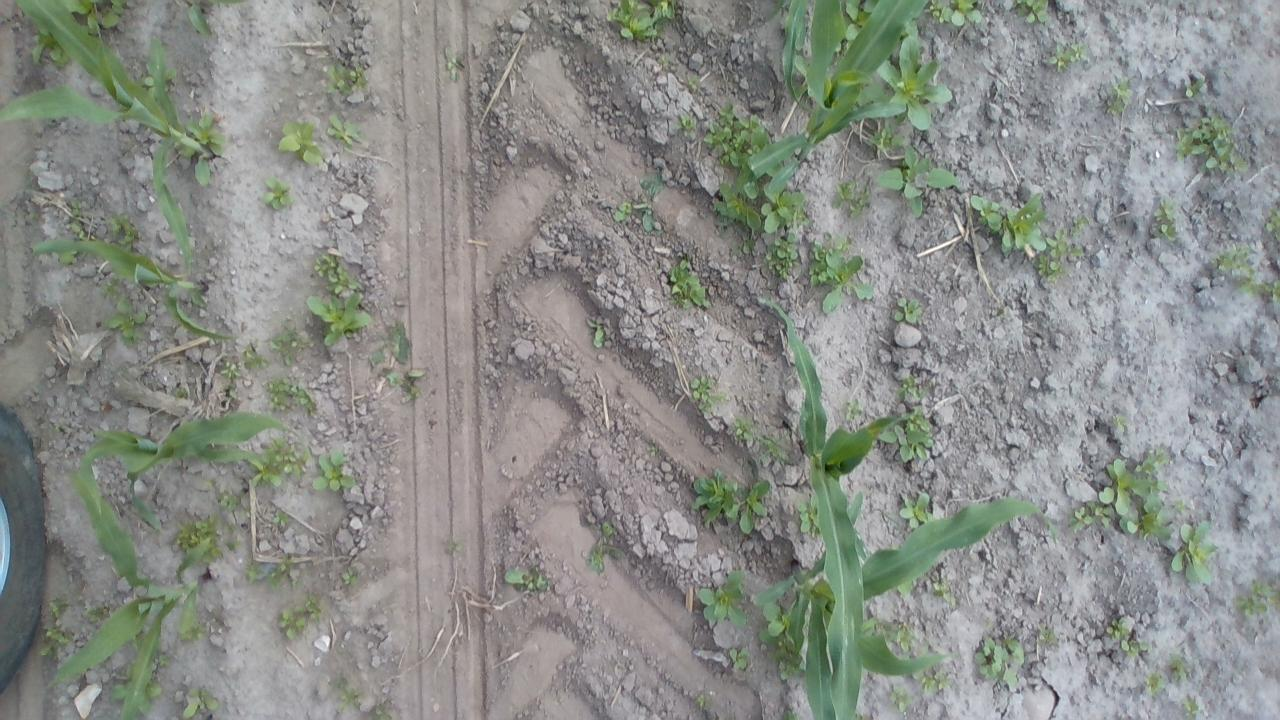Maize: (754, 298, 932, 718), (750, 495, 1062, 719), (2, 0, 220, 266), (42, 466, 222, 718), (742, 0, 933, 199), (78, 409, 314, 530), (28, 234, 234, 344), (768, 0, 848, 115)
Weeds: (1068, 447, 1182, 545), (878, 36, 958, 132), (804, 230, 878, 316), (876, 141, 956, 218), (971, 187, 1054, 257), (690, 466, 770, 538), (362, 316, 423, 397), (702, 95, 766, 171), (754, 597, 810, 678), (1176, 109, 1248, 171), (1029, 213, 1093, 280), (598, 0, 680, 52), (301, 290, 374, 346), (172, 512, 242, 568), (1164, 513, 1220, 582), (879, 406, 936, 472), (972, 630, 1034, 689), (696, 564, 746, 632), (609, 174, 664, 234), (660, 246, 711, 310), (756, 180, 812, 233), (252, 436, 308, 488), (714, 176, 766, 231), (578, 518, 629, 574), (276, 591, 326, 642), (264, 374, 320, 419), (1105, 613, 1154, 664), (310, 444, 358, 495), (1229, 574, 1280, 618), (1209, 238, 1257, 284), (1144, 194, 1184, 246), (106, 295, 150, 342), (310, 56, 366, 92), (186, 0, 245, 34), (310, 252, 359, 292), (184, 111, 227, 154), (68, 0, 124, 33), (1034, 37, 1088, 71), (326, 669, 362, 720), (924, 0, 988, 28), (278, 118, 320, 160), (502, 562, 552, 596), (828, 178, 870, 217), (896, 491, 938, 530), (762, 234, 798, 278), (178, 684, 222, 720), (269, 314, 301, 362), (838, 0, 876, 40), (102, 210, 144, 246), (37, 624, 77, 660), (324, 114, 364, 148), (1104, 71, 1134, 114), (893, 614, 923, 655), (259, 176, 294, 211), (926, 572, 960, 608), (754, 433, 790, 466), (266, 552, 297, 590), (1012, 0, 1054, 28), (584, 312, 614, 351), (886, 680, 918, 715), (687, 371, 719, 406), (867, 123, 904, 153), (794, 490, 818, 534), (443, 45, 469, 85), (894, 372, 926, 404), (891, 293, 925, 323), (211, 485, 247, 512), (65, 196, 87, 239), (1240, 278, 1280, 301), (920, 669, 956, 694), (725, 408, 753, 440), (672, 108, 700, 138), (174, 616, 207, 640), (239, 338, 267, 366), (99, 274, 127, 300), (1182, 75, 1208, 103), (724, 646, 750, 674), (1264, 204, 1280, 249), (1032, 620, 1062, 644), (1176, 688, 1201, 716), (83, 607, 110, 629), (844, 397, 866, 424), (366, 699, 394, 720), (47, 596, 70, 620), (734, 230, 756, 255), (1164, 651, 1186, 676), (1146, 668, 1162, 702), (1105, 413, 1131, 432), (340, 566, 360, 590), (242, 556, 262, 580), (218, 360, 244, 378), (56, 254, 82, 268), (270, 509, 290, 526), (692, 690, 707, 712), (642, 436, 658, 456), (778, 705, 798, 720), (684, 72, 698, 92), (894, 582, 914, 596), (449, 536, 462, 556), (155, 654, 172, 666), (657, 54, 670, 69), (174, 385, 186, 400), (201, 477, 215, 489)
